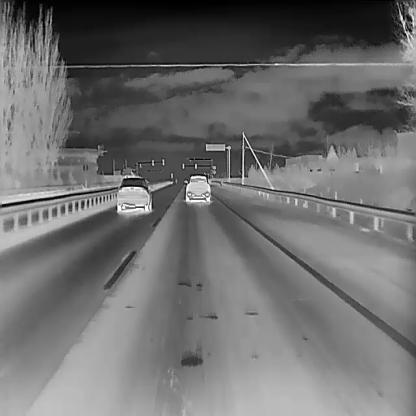car: (116, 175, 153, 211), (183, 173, 211, 201), (121, 165, 142, 184)
